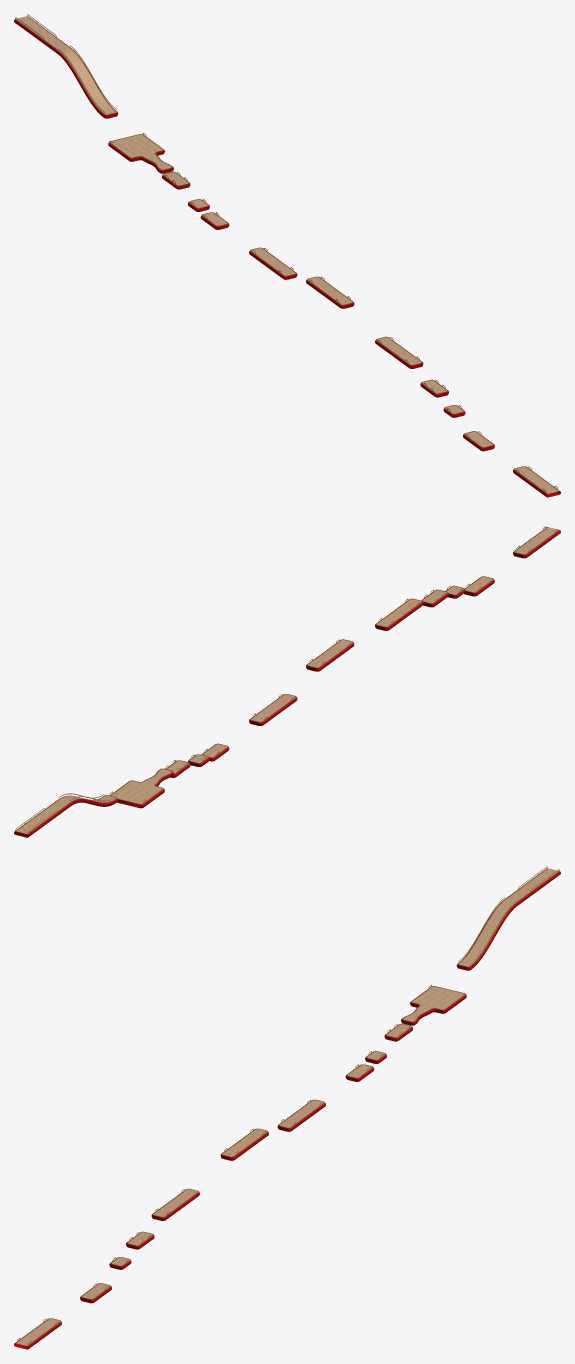
File: map35.fbx
3 views of the same model, one above another, from view 1: azimuth 30°, elevation 25°; view 2: azimuth 150°, elevation 25°; view 3: azimuth 330°, elevation 25° (orthographic).
Parts seen in each view (by area): view 1: Dummy_Start_1; view 2: Dummy_Start_1; view 3: Dummy_Start_1.
Part boxes in pixels (x1,y1,x2,y2): Dummy_Start_1: (14,14,560,497); Dummy_Start_1: (14,526,560,837); Dummy_Start_1: (14,866,560,1349).
Size of the model in its own units: 1262 by 3099 by 32225.
Materials: 9 (4 with a texture image).
